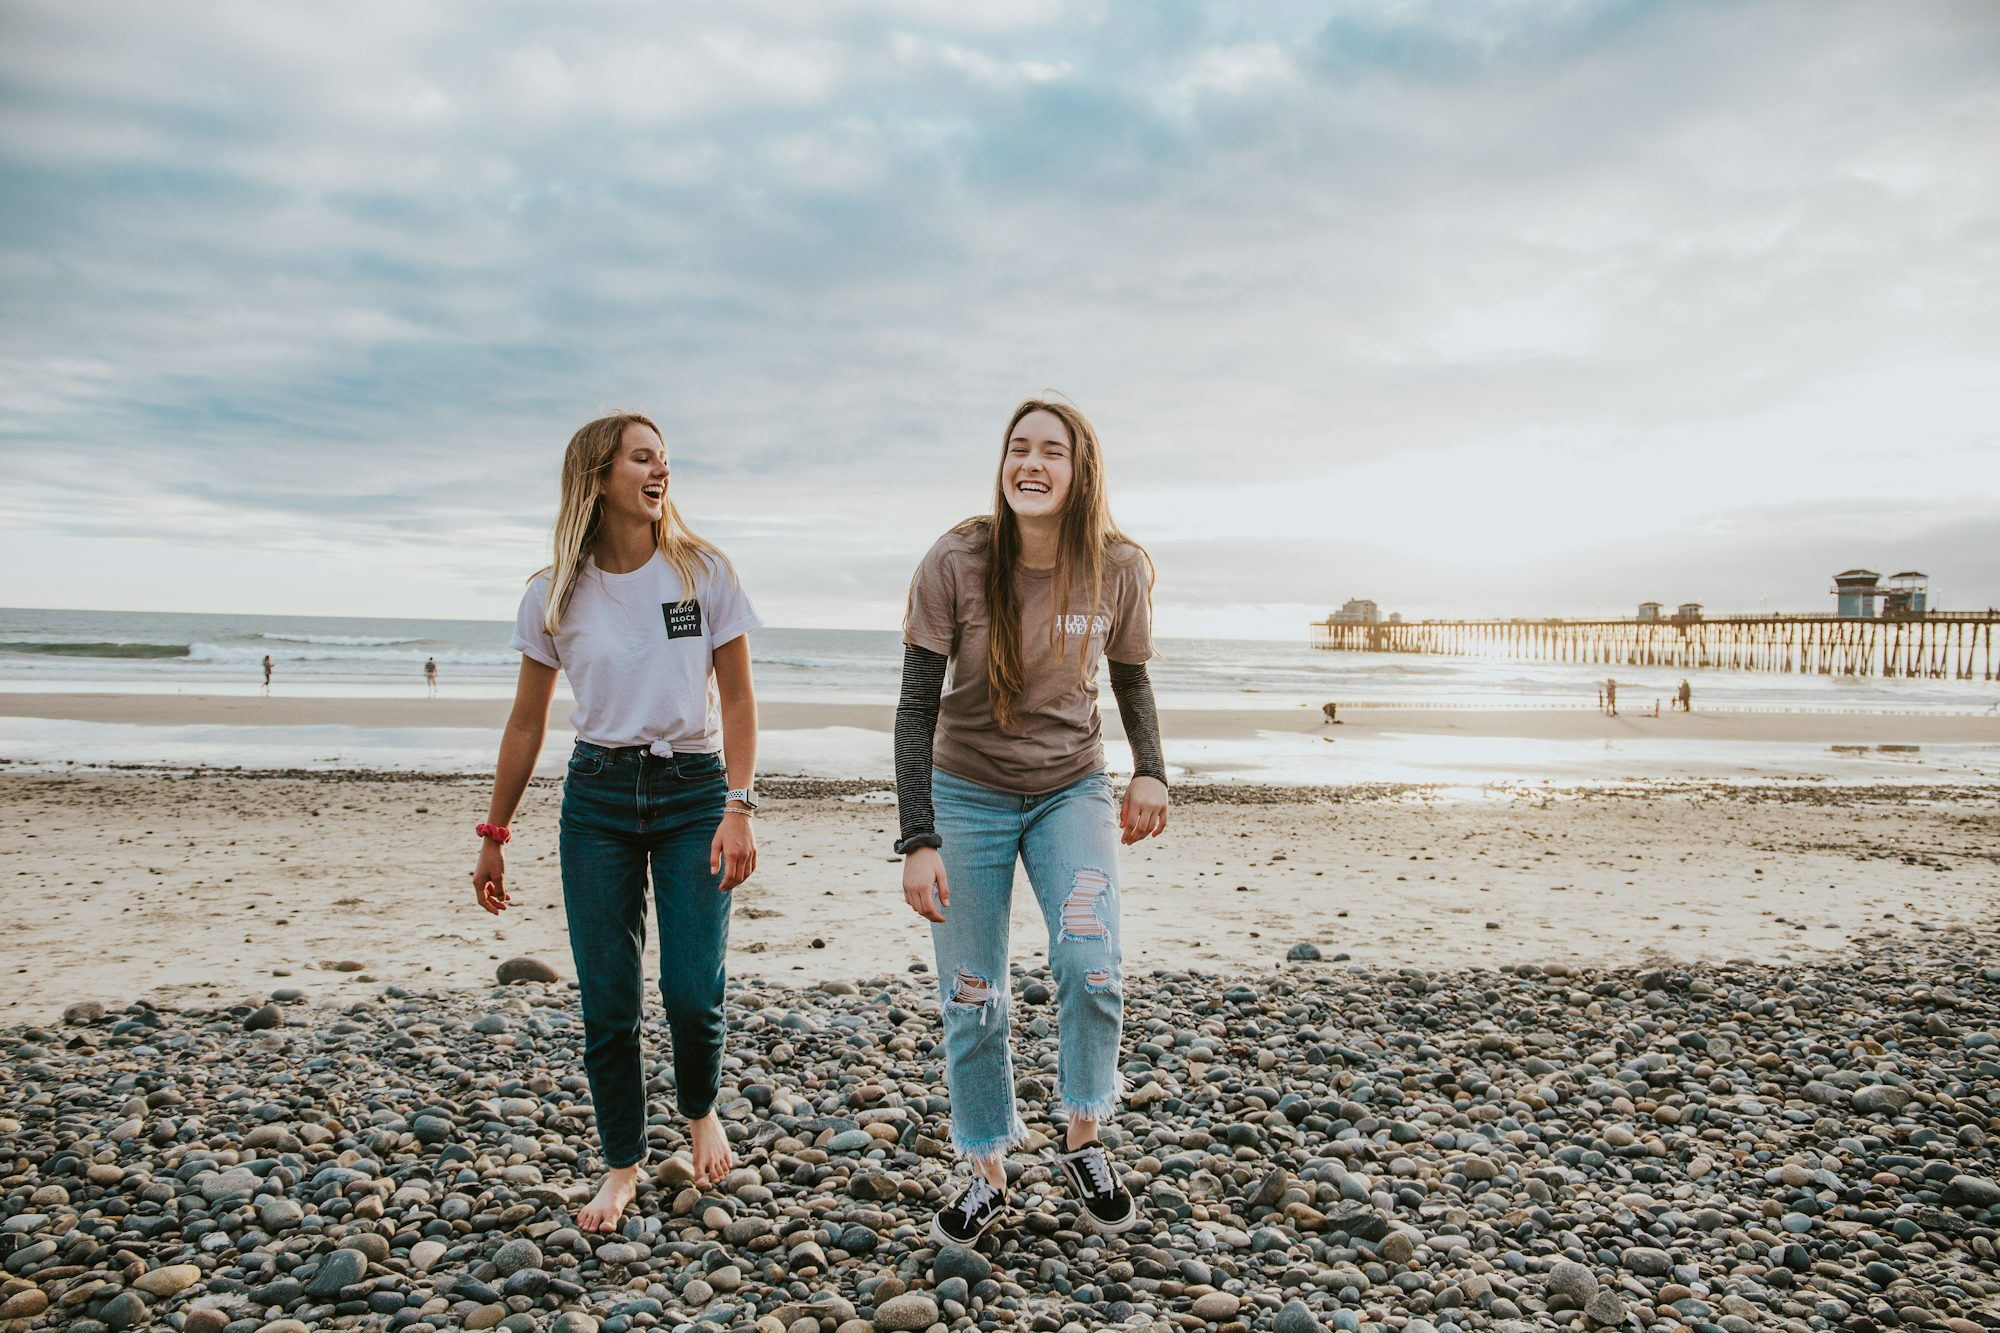person: (467, 408, 789, 1227), (882, 380, 1175, 1246)
